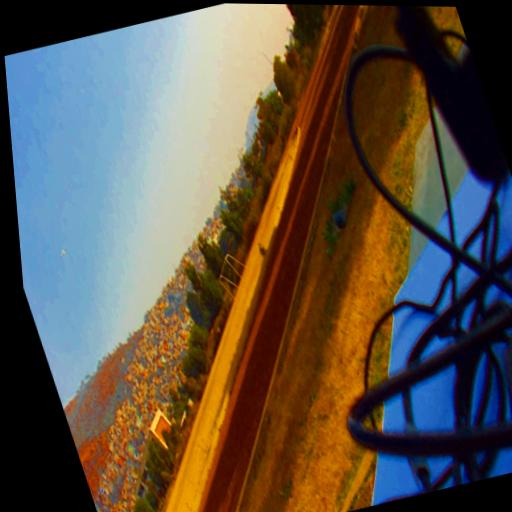drones: (58, 247, 70, 259)
